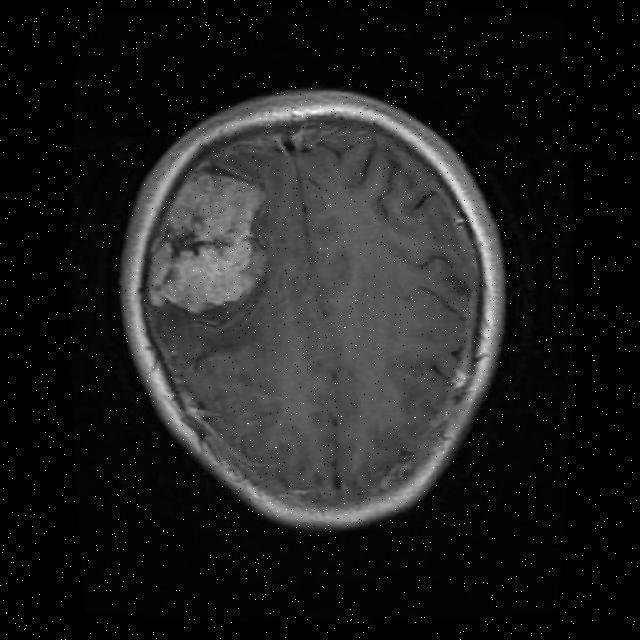Meningioma: (147, 165, 264, 312)
